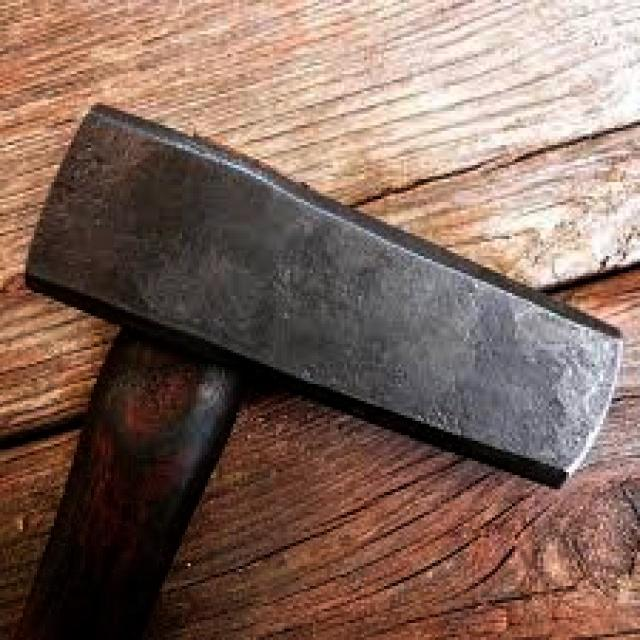hammer: (0, 99, 628, 640)
